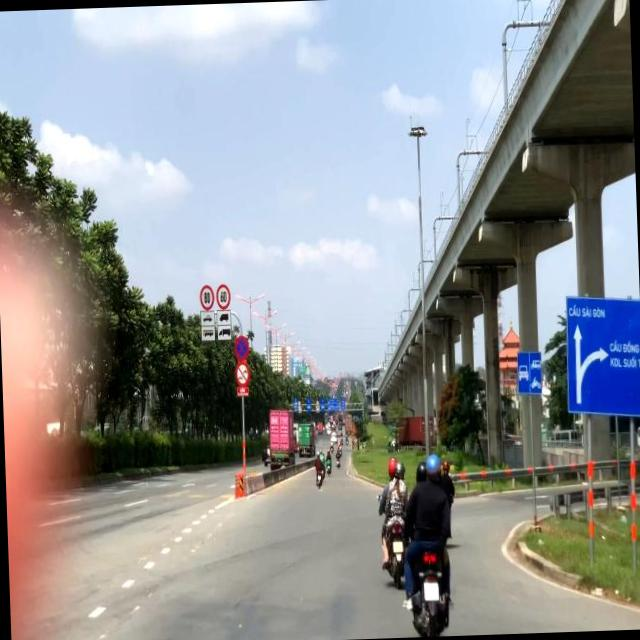P-127: (214, 283, 232, 310), (198, 284, 214, 310)
P-130: (233, 336, 250, 360)
